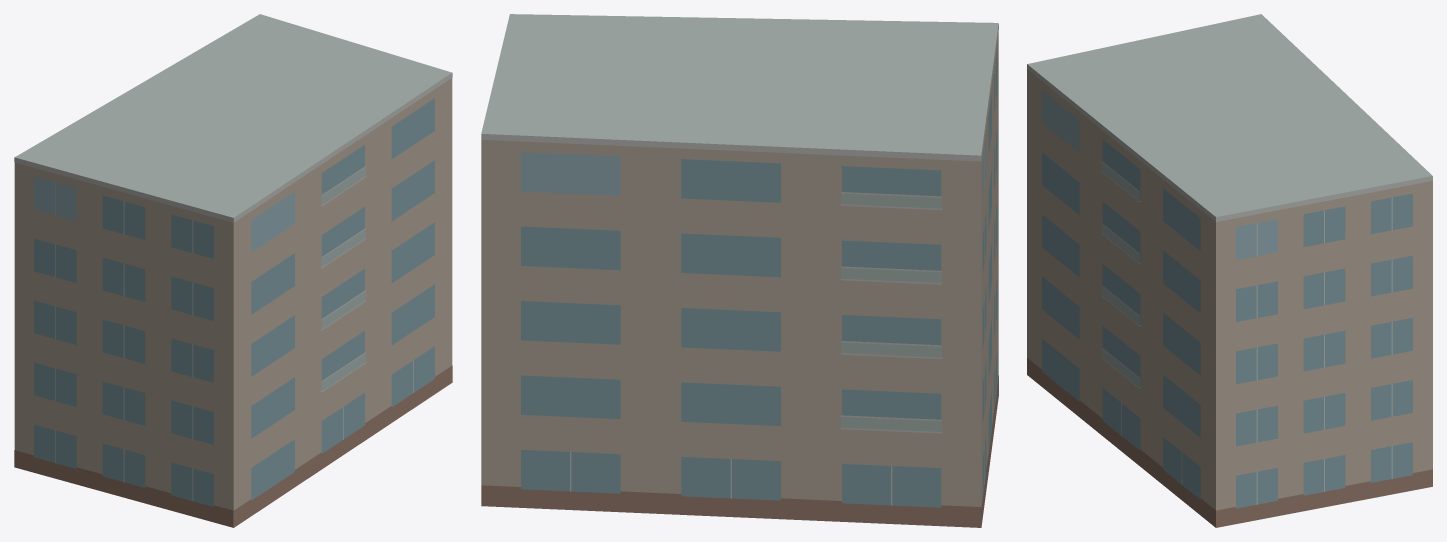
Rendered from survey-upis-32834793.glb.
3 views of the same model, side by side, from view 1: azimuth 30°, elevation 25°; view 2: azimuth 150°, elevation 25°; view 3: azimuth 270°, elevation 25° (orthographic). The views are drawn at different scales.
Visible parts, largest first — view 1: survey-upis-32834793.tmp; view 2: survey-upis-32834793.tmp; view 3: survey-upis-32834793.tmp.
Part boxes in pixels (<box>): survey-upis-32834793.tmp: <box>14,14,452,527</box>; survey-upis-32834793.tmp: <box>481,14,998,527</box>; survey-upis-32834793.tmp: <box>1027,14,1432,527</box>.
Bounding box in the file's own units: 21.39 × 15.25 × 18.06.
